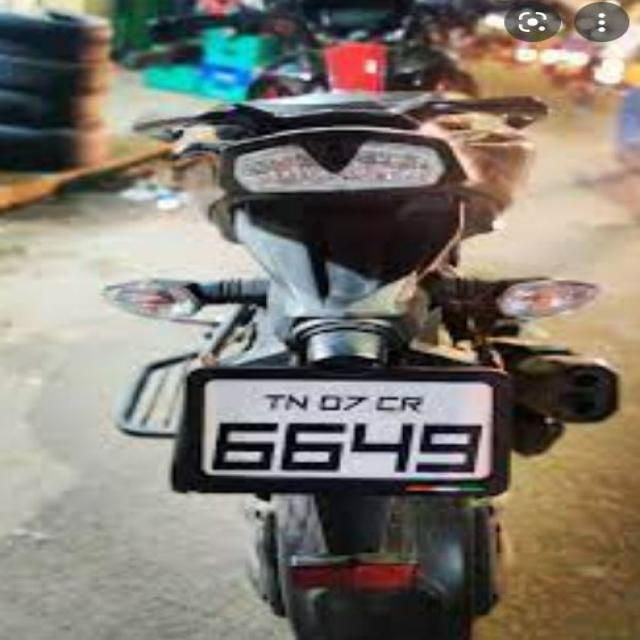number plate: (184, 367, 503, 488)
